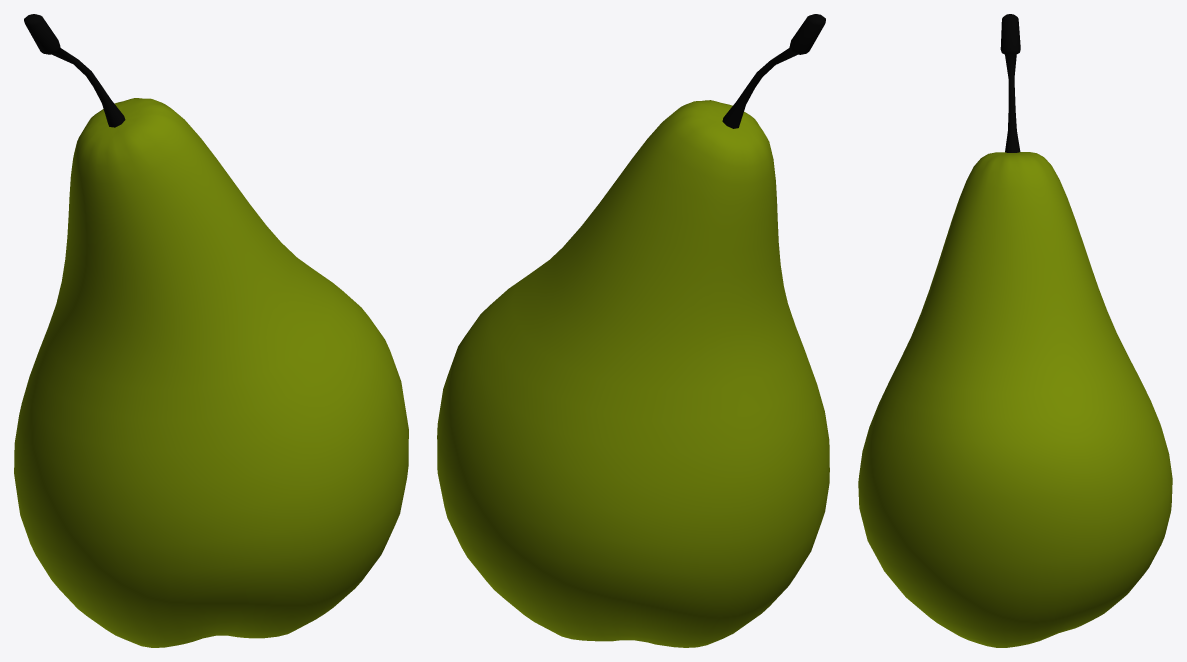
The model's file is pear.fbx.
3 renders of one model, left to right at view 1: azimuth 30°, elevation 25°; view 2: azimuth 150°, elevation 25°; view 3: azimuth 270°, elevation 25°, orthographic. The views are drawn at different scales.
Visible parts, largest first — view 1: polySurface31; view 2: polySurface31; view 3: polySurface31.
Part boxes in pixels (bbox=[...]): polySurface31: bbox=[14, 14, 408, 647]; polySurface31: bbox=[437, 14, 829, 647]; polySurface31: bbox=[858, 14, 1172, 647].
Size of the model in its own units: 9.03 by 15.57 by 8.33.
